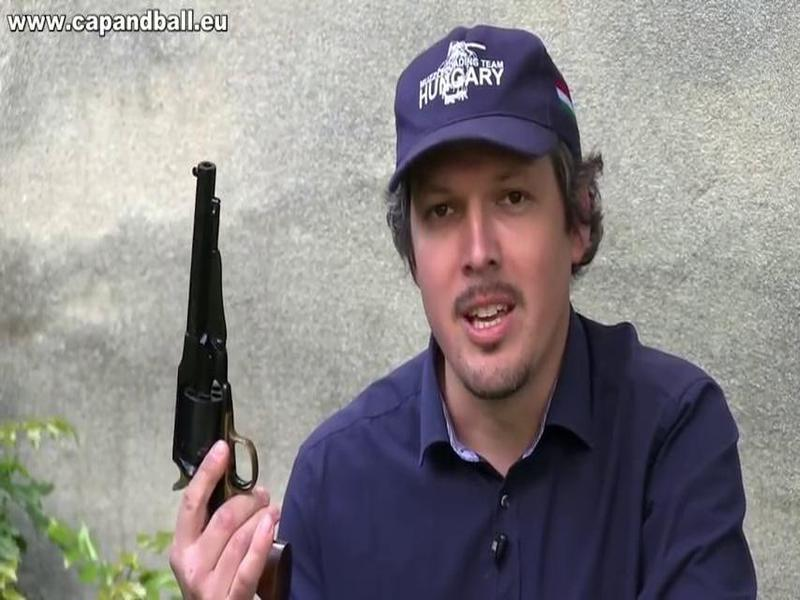Revolver: (142, 137, 327, 598)
